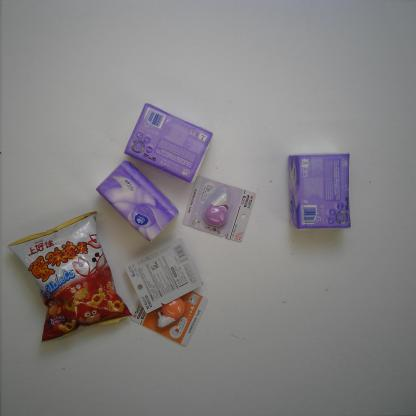Puffed Food: (7, 210, 134, 344)
Stationery: (124, 237, 204, 314), (181, 175, 258, 243), (130, 290, 209, 347)
Tissue: (123, 102, 215, 184), (94, 158, 180, 244), (287, 150, 352, 230)
